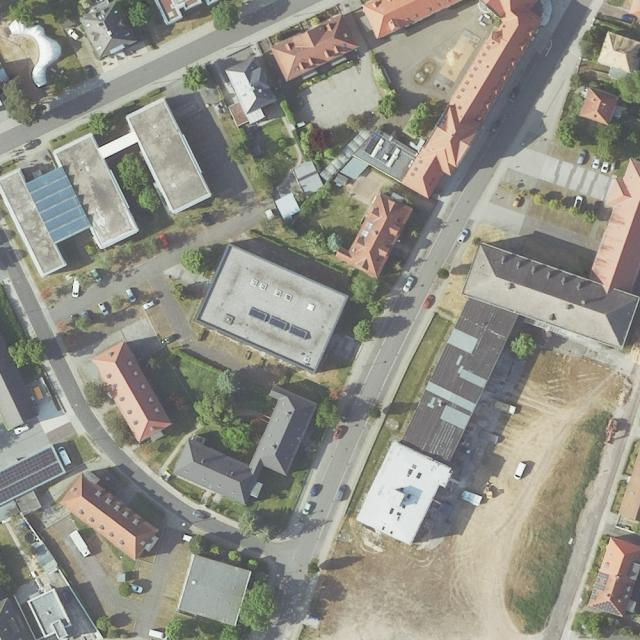PV: (0, 448, 64, 505), (249, 308, 306, 338), (590, 572, 608, 601), (591, 599, 621, 615), (371, 131, 381, 140)
ST: (363, 138, 378, 156)
